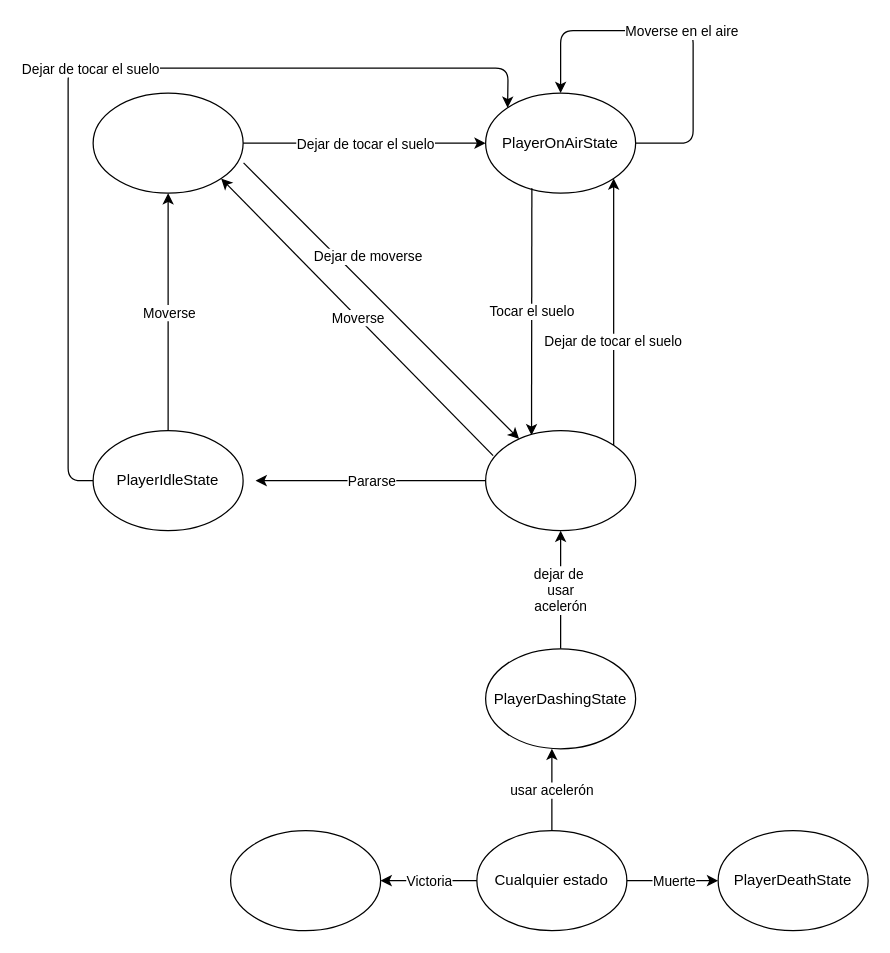
Image size: 890x953. Some labels were removed from this diagram. Each missing label, with the box of its shape:
PlayerMovingState: (92, 92, 243, 193)
PlayerStopingState: (484, 429, 636, 531)
PlayerVictoryState: (229, 829, 381, 931)
